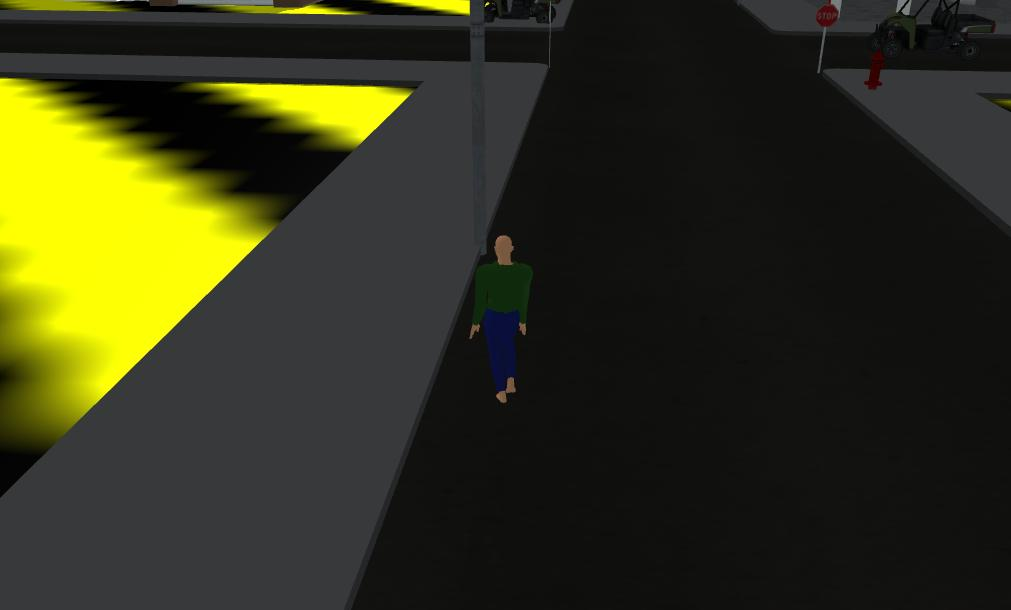car: (873, 1, 1005, 57)
fire hydrant: (855, 52, 890, 104)
human: (465, 229, 552, 404)
street sign: (805, 2, 838, 83)
